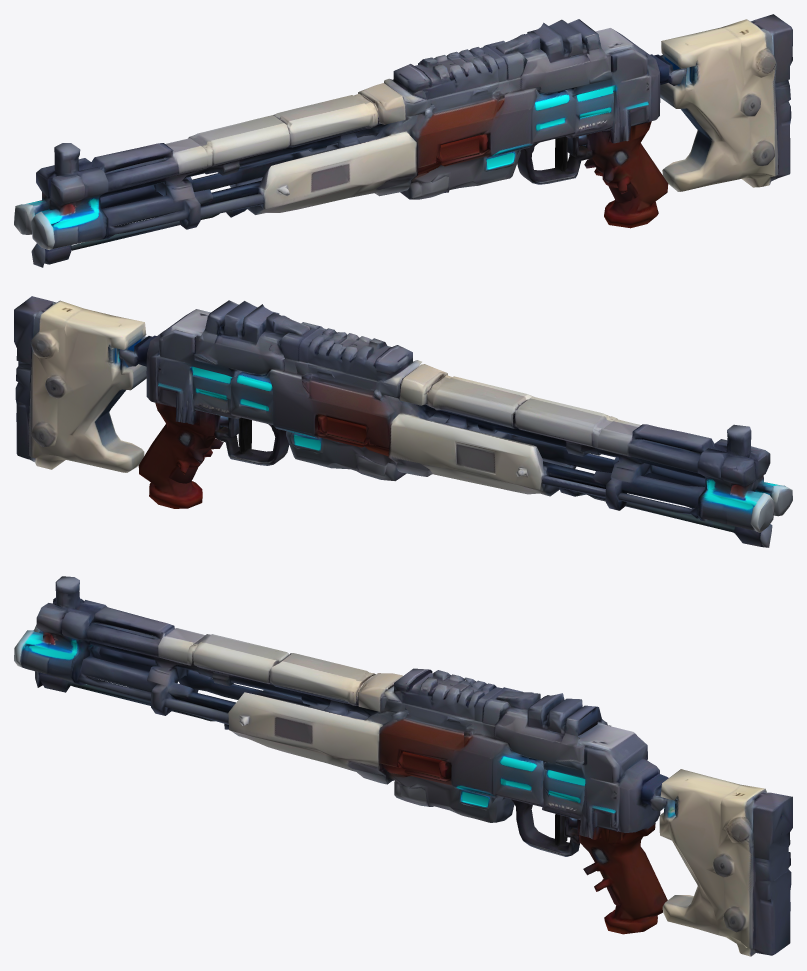
File: longwave.fbx
3 renders of one model, top to bottom at view 1: azimuth 30°, elevation 25°; view 2: azimuth 150°, elevation 25°; view 3: azimuth 330°, elevation 25°, orthographic.
Visible parts, largest first — view 1: tripo_node_7d6f61f8; view 2: tripo_node_7d6f61f8; view 3: tripo_node_7d6f61f8.
Boxes of the visible parts, bbox=[...] form: tripo_node_7d6f61f8: bbox=[14, 14, 792, 267]; tripo_node_7d6f61f8: bbox=[14, 296, 792, 547]; tripo_node_7d6f61f8: bbox=[14, 576, 792, 956].
Size of the model in its own units: 0.9791 by 0.2581 by 0.103.
